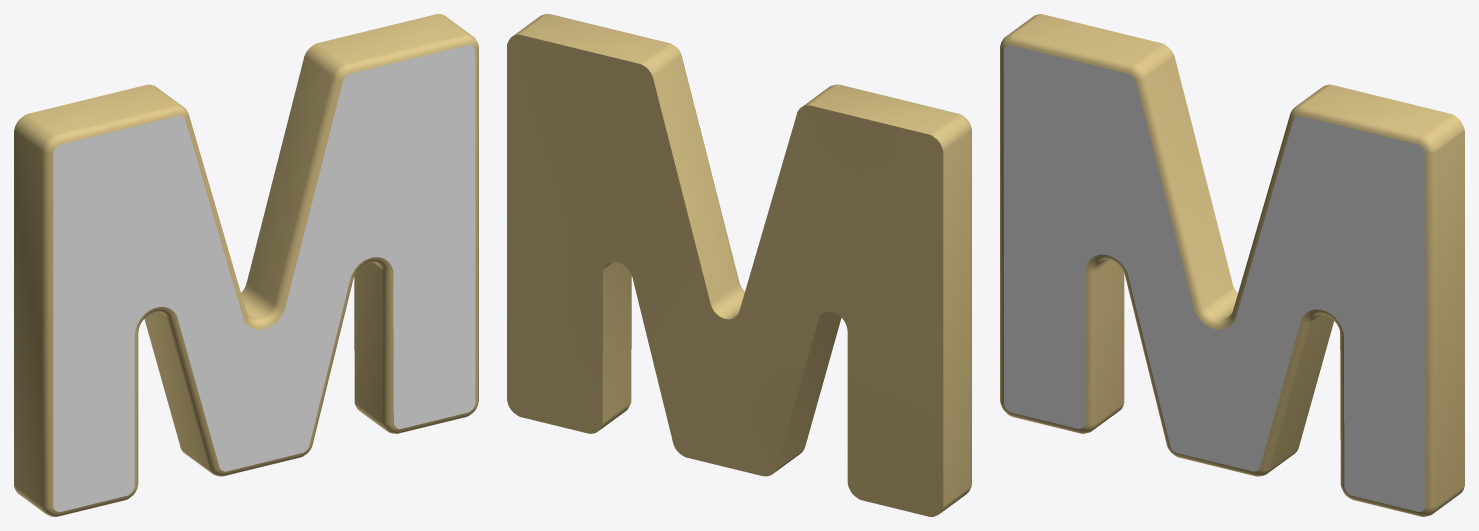
File: LettersLightUp02_M.FBX
The picture shows the model from 3 angles, left to right: view 1: azimuth 30°, elevation 25°; view 2: azimuth 150°, elevation 25°; view 3: azimuth 330°, elevation 25°; orthographic projection.
Visible parts, largest first — view 1: LettersLightUp02_M; view 2: LettersLightUp02_M; view 3: LettersLightUp02_M.
Boxes of the visible parts, x1,y1,x2,y2 form: LettersLightUp02_M: (14, 14, 478, 516); LettersLightUp02_M: (507, 14, 971, 516); LettersLightUp02_M: (1000, 14, 1464, 516).
Size of what is drawn, in the model's own units: 0.716 by 0.5997 by 0.0912.
